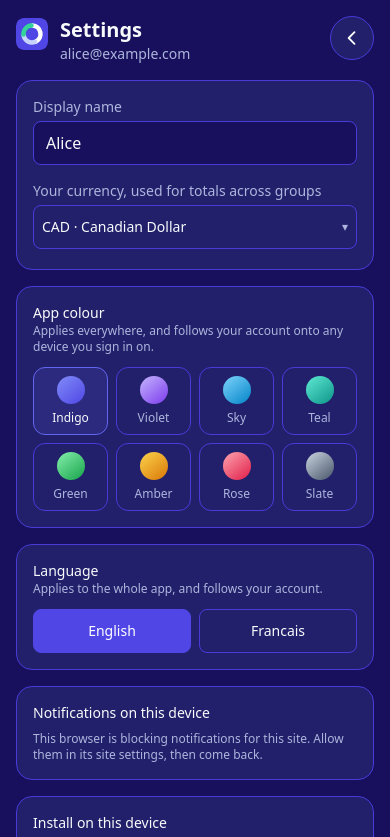
Test: the profile settings › saving the profile › appears on the first change
Replace the text in the field labelled "Display name" with "Alice A" at (195, 143), box top-left (33, 121), bottom-right (357, 165)
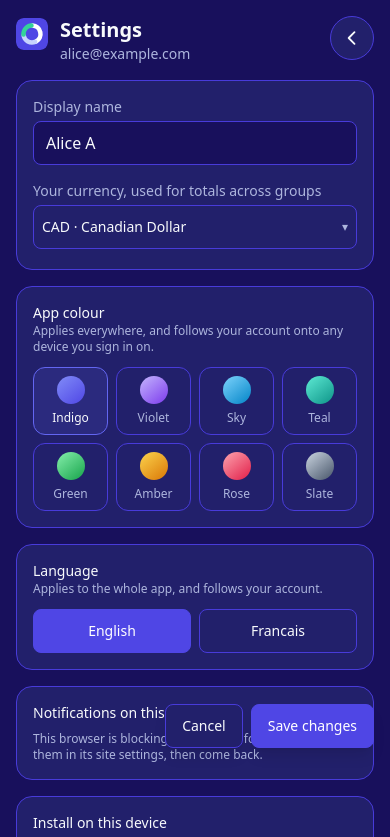
Now the element with test id "save-bar" is shown, box top-left (165, 704), bottom-right (374, 748)
Now the button with test id "cancel-changes" is shown, box top-left (165, 704), bottom-right (243, 748)
